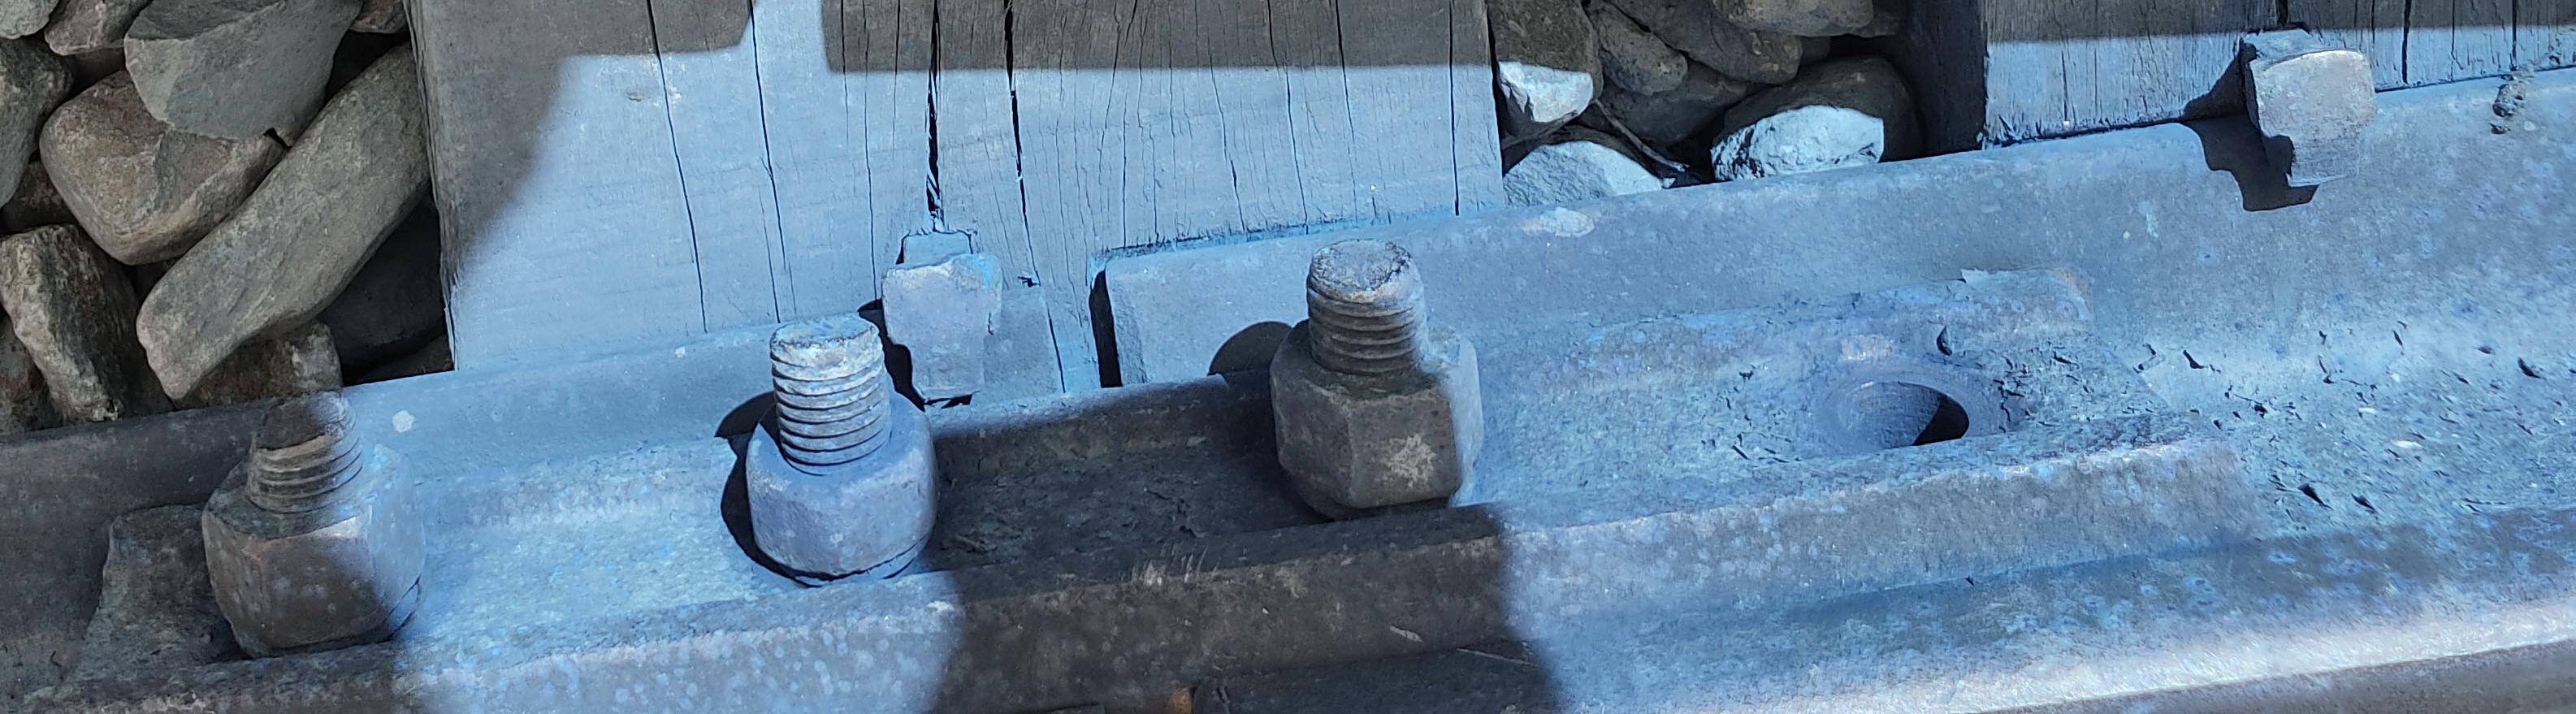error1: (2109, 2, 2458, 245), (839, 141, 1037, 450)
